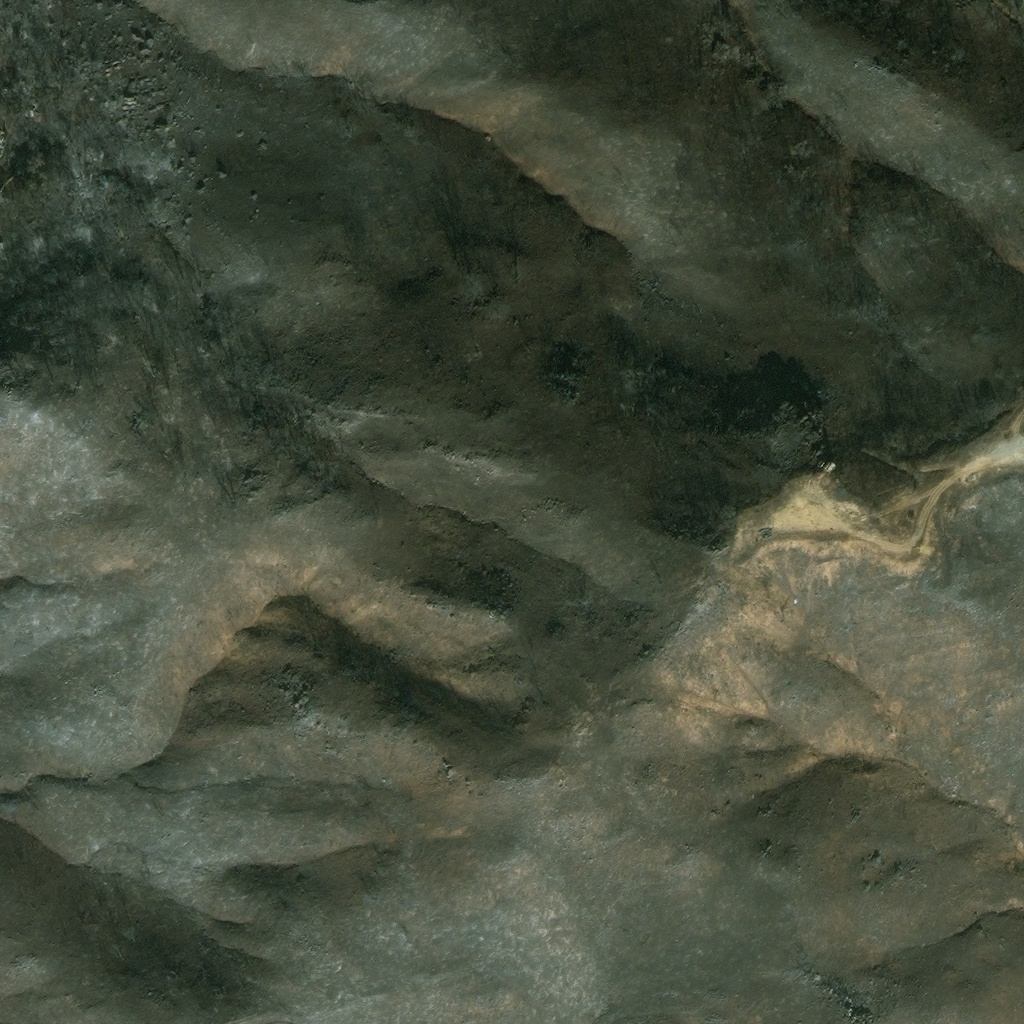3 destroyed: (0, 134, 24, 161)
